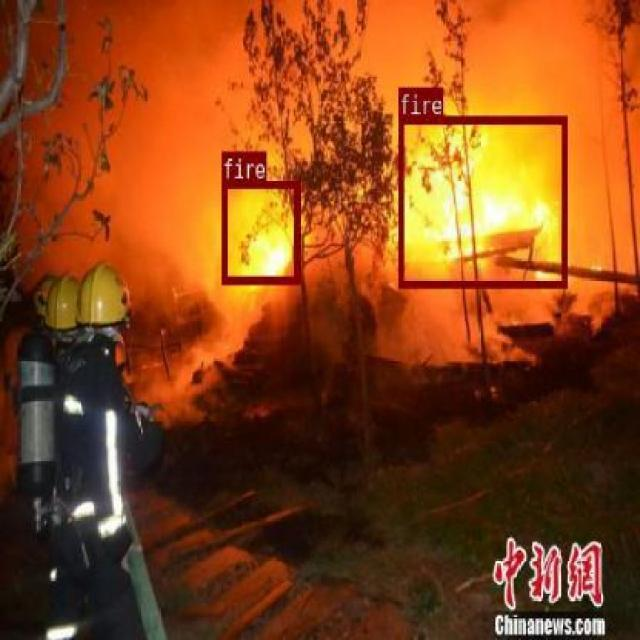Fire: (397, 116, 566, 286), (220, 178, 298, 284)
